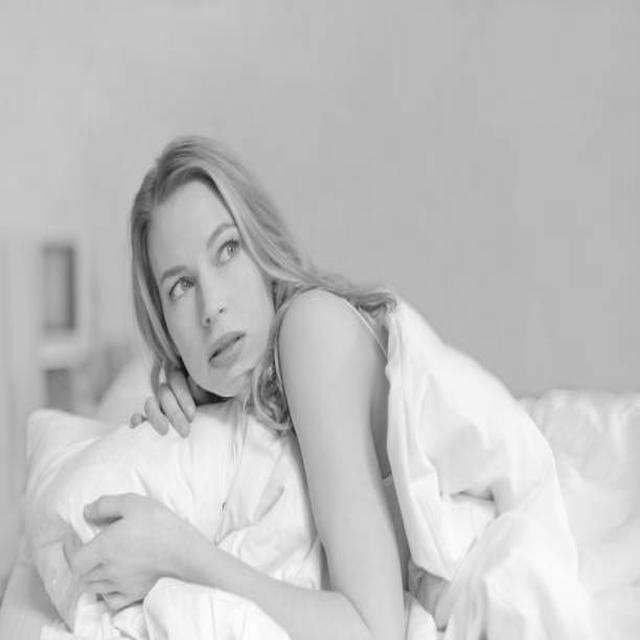Fear: (147, 182, 274, 398)
